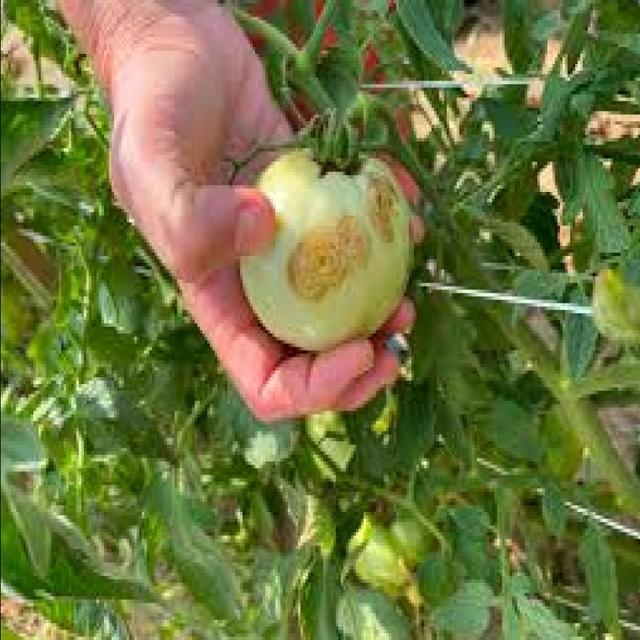Spotted wilt Virus Fruit: (80, 77, 239, 264)
